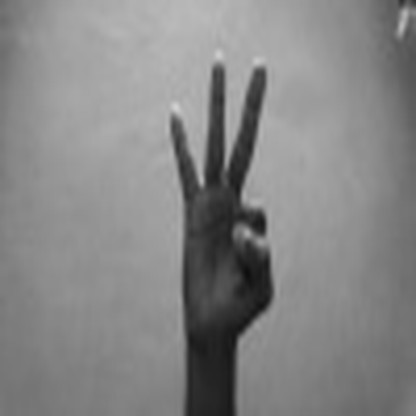f: (158, 40, 285, 344)
